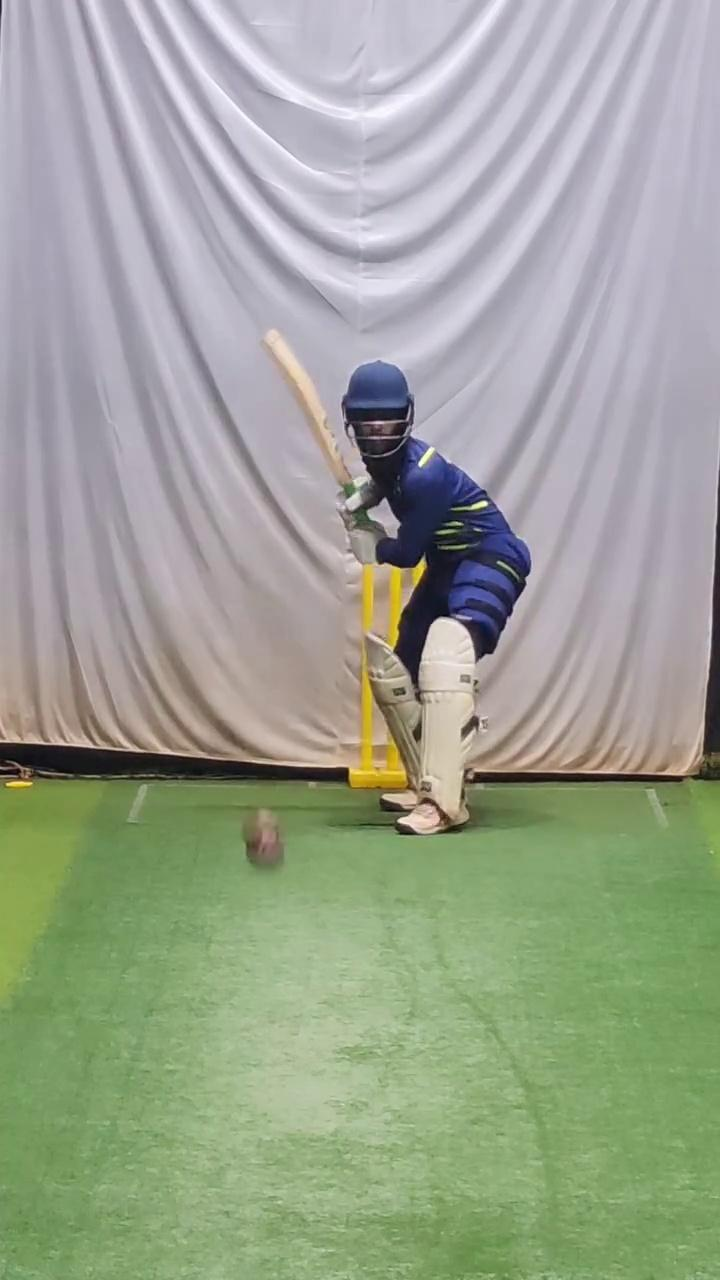bat: (254, 318, 354, 496)
